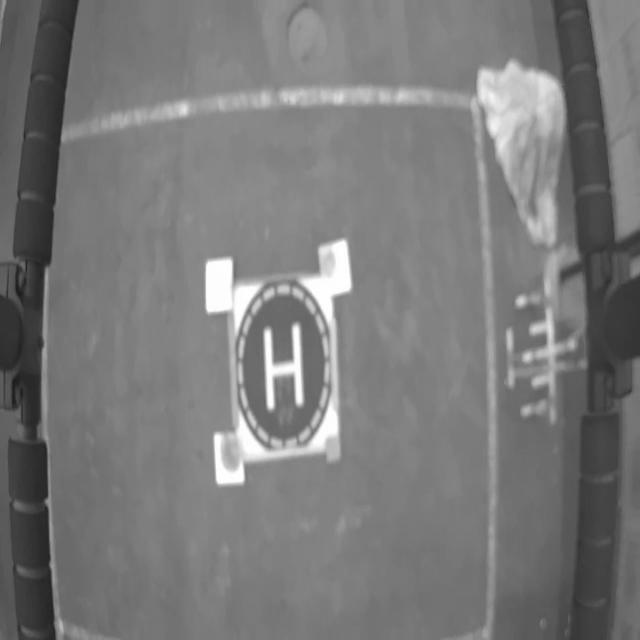Helipad: (264, 320, 304, 409)
